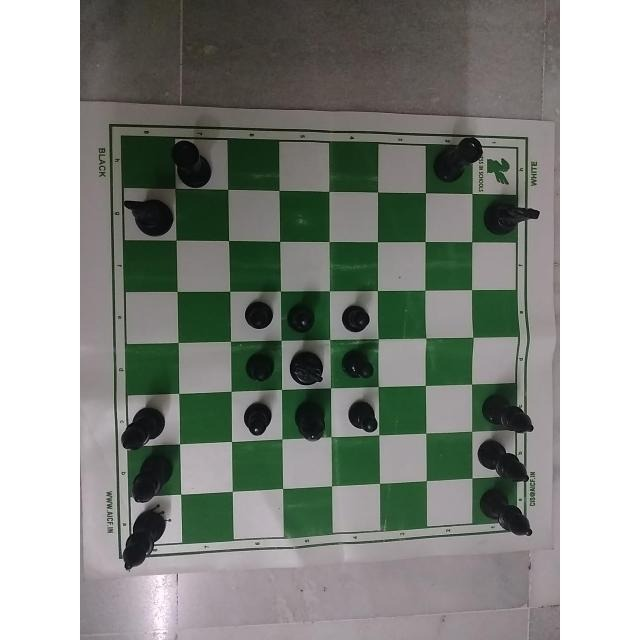black-bishop: (113, 509, 175, 575), (464, 488, 540, 540), (93, 399, 163, 453), (110, 454, 182, 506), (471, 434, 543, 484), (469, 388, 534, 436), (283, 394, 329, 455)
black-knight: (477, 189, 543, 239), (124, 187, 178, 241), (284, 340, 327, 387)
black-pawn: (338, 291, 377, 345), (336, 340, 380, 387), (239, 290, 280, 337), (283, 292, 323, 340), (346, 393, 381, 445), (237, 400, 273, 450), (243, 342, 276, 389)
black-rook: (428, 129, 486, 185), (175, 129, 217, 187)
